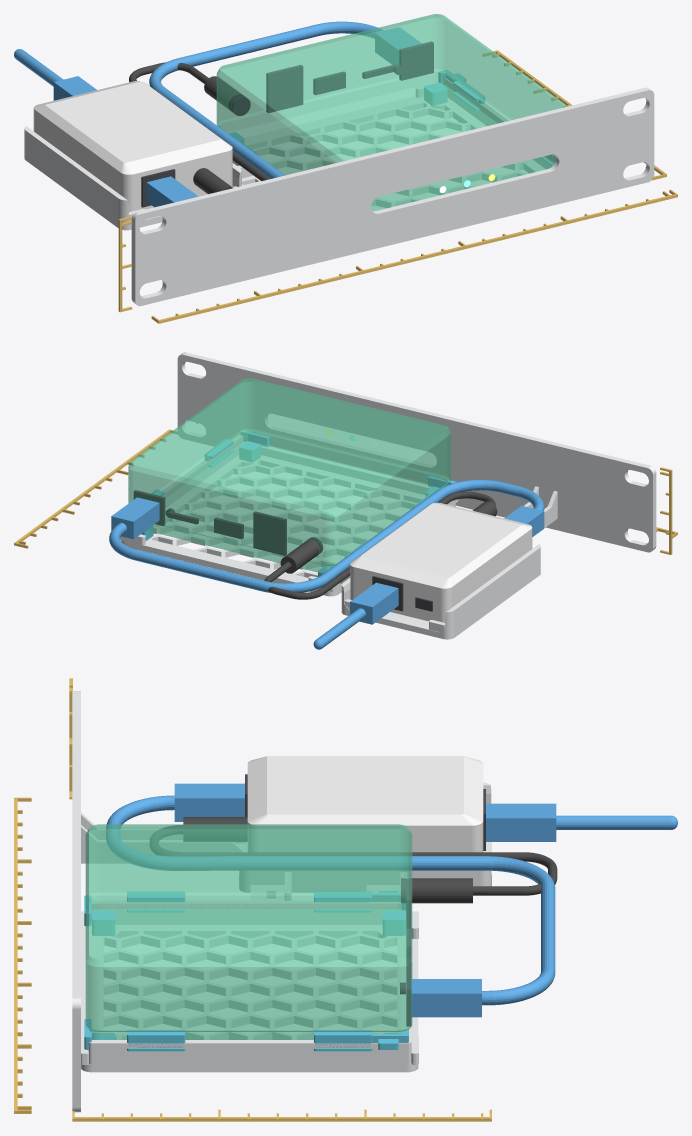
File: home-assistant-green-rack-cable_friendly-no_shutter.glb
3 renders of one model, top to bottom at view 1: azimuth 30°, elevation 25°; view 2: azimuth 150°, elevation 25°; view 3: azimuth 270°, elevation 25°, orthographic. The views are drawn at different scales.
Parts seen in each view (by area): view 1: White rack mount, Home Assistant Green, TP-Link TL-PD30G-M2, Green tray — standard, Internal Ethernet cable, 10 mm dimension rulers, Home Assistant Green connector faces, TP-Link cradle side walls, DC cable, Green retention — segmented rails + rear latch, Incoming PoE cable, TP-Link cradle floor (+2 smaller); view 2: Home Assistant Green, White rack mount, Green tray — standard, TP-Link TL-PD30G-M2, Internal Ethernet cable, TP-Link cradle side walls, Home Assistant Green connector faces, DC cable, Incoming PoE cable, 10 mm dimension rulers, Green retention — segmented rails + rear latch, TP-Link cradle floor (+1 smaller); view 3: Home Assistant Green, Green tray — standard, TP-Link TL-PD30G-M2, Internal Ethernet cable, White rack mount, Green retention — segmented rails + rear latch, DC cable, 10 mm dimension rulers, Incoming PoE cable, TP-Link cradle side walls, Home Assistant Green connector faces, TP-Link cradle floor.
Part boxes in pixels (x1=…): White rack mount: x1=131, y1=87, x2=654, y2=306; Home Assistant Green: x1=216, y1=14, x2=566, y2=211; TP-Link TL-PD30G-M2: x1=33, y1=81, x2=232, y2=211; Green tray — standard: x1=228, y1=78, x2=555, y2=207; Internal Ethernet cable: x1=146, y1=21, x2=421, y2=207; 10 mm dimension rulers: x1=118, y1=50, x2=677, y2=323; Home Assistant Green connector faces: x1=231, y1=41, x2=433, y2=115; TP-Link cradle side walls: x1=24, y1=126, x2=241, y2=222; DC cable: x1=129, y1=62, x2=270, y2=194; Green retention — segmented rails + rear latch: x1=218, y1=70, x2=555, y2=165; Incoming PoE cable: x1=14, y1=49, x2=96, y2=100; TP-Link cradle floor: x1=24, y1=153, x2=162, y2=230; Home Assistant Green: x1=128, y1=378, x2=450, y2=573; White rack mount: x1=177, y1=352, x2=656, y2=583; Green tray — standard: x1=120, y1=435, x2=458, y2=596; TP-Link TL-PD30G-M2: x1=350, y1=502, x2=532, y2=622; Internal Ethernet cable: x1=109, y1=479, x2=544, y2=593; TP-Link cradle side walls: x1=341, y1=544, x2=540, y2=633; Home Assistant Green connector faces: x1=133, y1=490, x2=323, y2=555; DC cable: x1=264, y1=491, x2=497, y2=599; Incoming PoE cable: x1=313, y1=582, x2=398, y2=649; 10 mm dimension rulers: x1=14, y1=423, x2=677, y2=554; Green retention — segmented rails + rear latch: x1=141, y1=430, x2=456, y2=576; TP-Link cradle floor: x1=341, y1=569, x2=540, y2=639; Home Assistant Green: x1=85, y1=824, x2=412, y2=1039; Green tray — standard: x1=81, y1=901, x2=418, y2=1072; TP-Link TL-PD30G-M2: x1=247, y1=756, x2=483, y2=852; Internal Ethernet cable: x1=106, y1=783, x2=555, y2=1017; White rack mount: x1=72, y1=691, x2=406, y2=1112; Green retention — segmented rails + rear latch: x1=84, y1=891, x2=408, y2=1051; DC cable: x1=150, y1=817, x2=557, y2=903; 10 mm dimension rulers: x1=14, y1=678, x2=491, y2=1121; Incoming PoE cable: x1=486, y1=803, x2=677, y2=841; TP-Link cradle side walls: x1=239, y1=782, x2=491, y2=885; Home Assistant Green connector faces: x1=400, y1=878, x2=411, y2=1026; TP-Link cradle floor: x1=239, y1=842, x2=491, y2=892.
Size of what is drawn, in the model's own units: 268 by 43 by 227.
